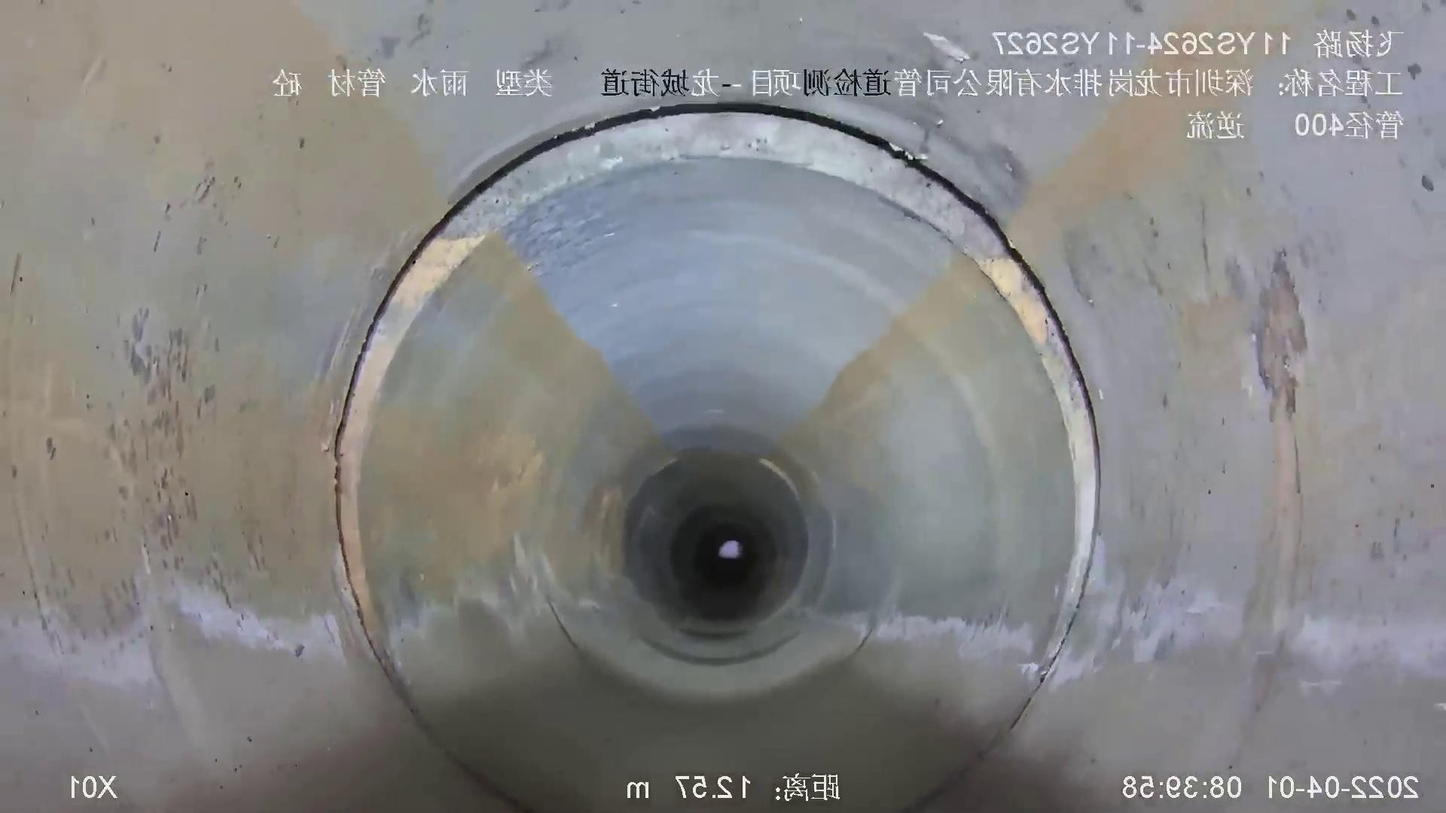CKTJ: (330, 102, 1100, 720)
